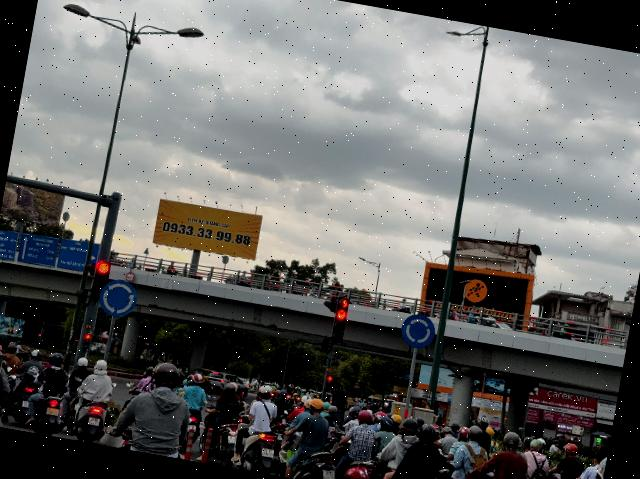noi-giao-nhau-chay-theo-vong-xuyen: (96, 276, 140, 320), (398, 311, 438, 351)
